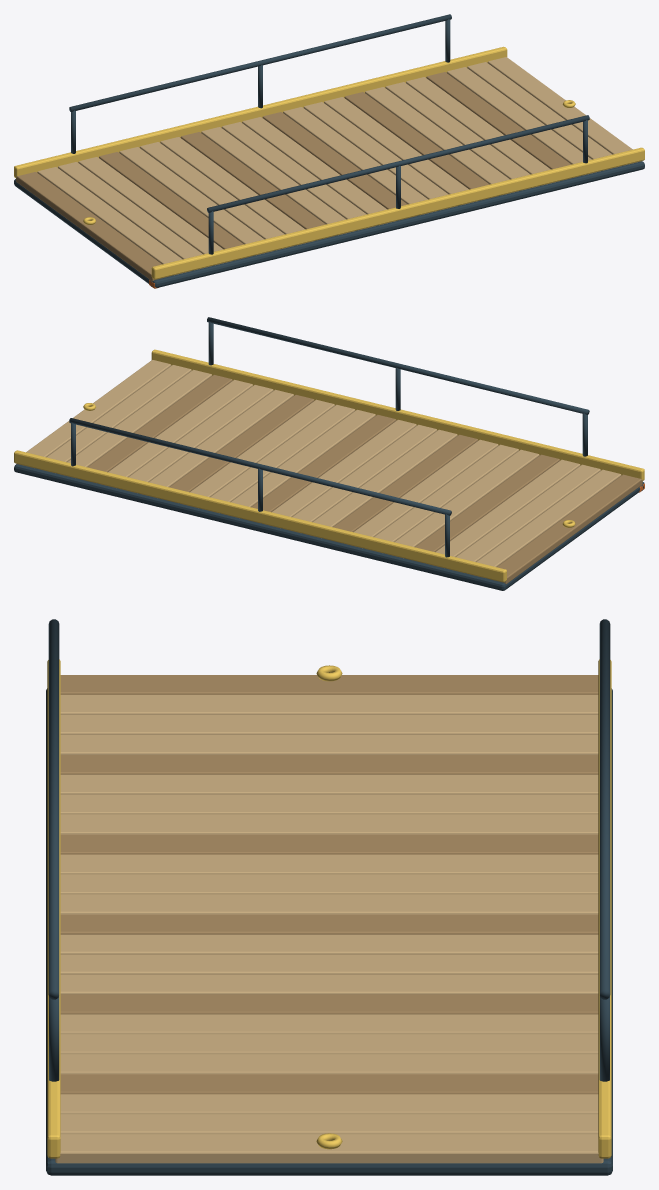
Rendered from ferry-deck.glb.
3 views of the same model, one above another, from view 1: azimuth 30°, elevation 25°; view 2: azimuth 150°, elevation 25°; view 3: azimuth 270°, elevation 25° (orthographic). The views are drawn at different scales.
Visible parts, largest first — view 1: tyaga-ferry-deck-surface; view 2: tyaga-ferry-deck-surface; view 3: tyaga-ferry-deck-surface.
Boxes of the visible parts, x1,y1,x2,y2 form: tyaga-ferry-deck-surface: [14, 14, 644, 288]; tyaga-ferry-deck-surface: [14, 317, 644, 590]; tyaga-ferry-deck-surface: [46, 619, 612, 1175].
Bounding box in the file's own units: 8.4 × 1.09 × 4.2.
